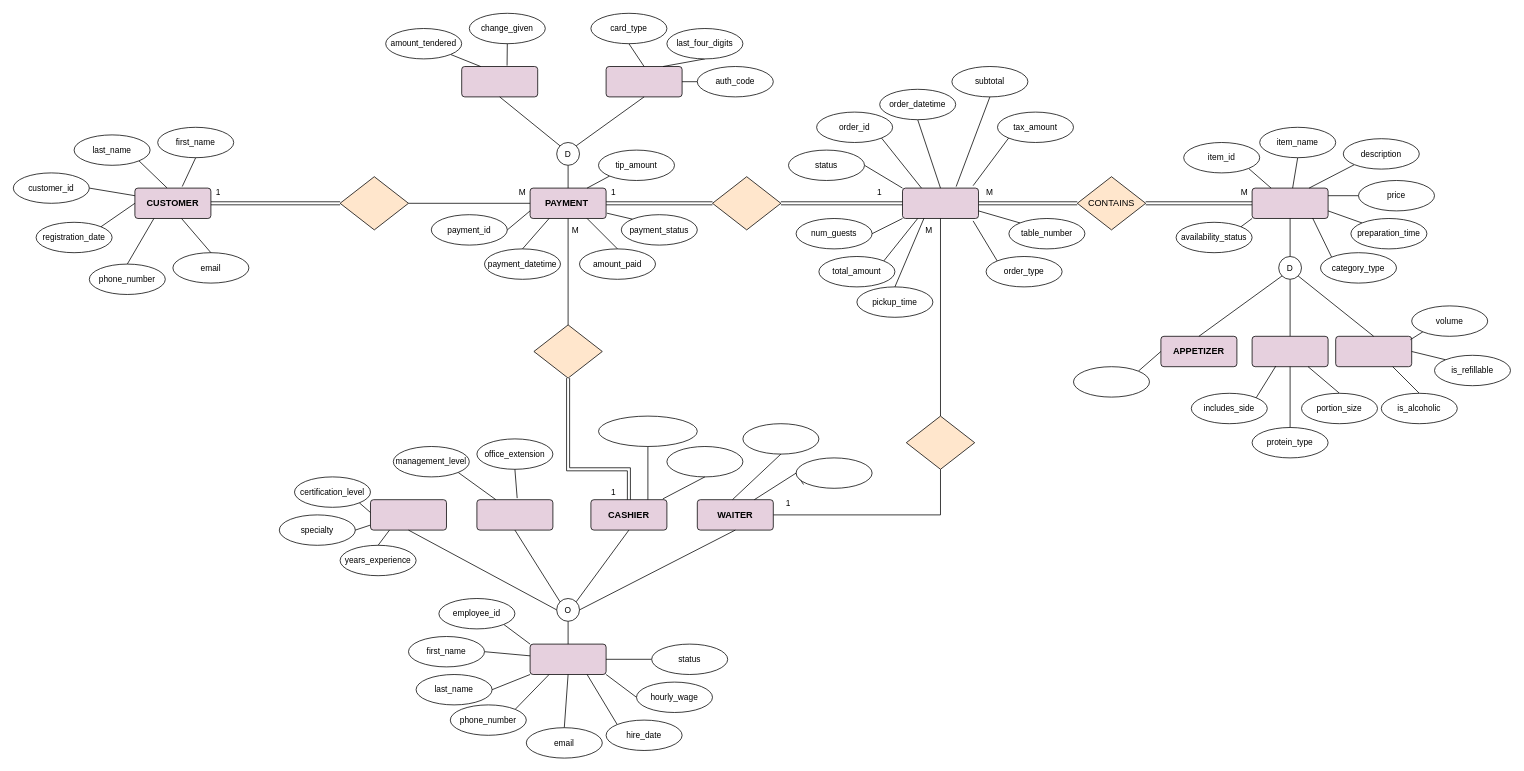
Some shapes in this 1524 by 771 pixel diagram are drawn without their labels. The centre of each missing label's shape, as x and y in pixels:
"assigned_section" belongs at point 780,438.
"BEVERAGES" belongs at point 1373,351.
"CARD" belongs at point 643,81.
"CASH" belongs at point 499,81.
"cash_handling_certified" belongs at point 647,430.
"CHEF" belongs at point 408,514.
"CREATES" belongs at point 746,203.
"EMPLOYEE" belongs at point 567,658.
"MAIN COURSE" belongs at point 1289,351.
"MAKES" belongs at point 373,203.
"MANAGER" belongs at point 514,514.
"MENU ITEMS" belongs at point 1289,202.
"ORDER" belongs at point 940,202.
"PROCESSES" belongs at point 567,351.
"register_number" belongs at point 704,461.
"SERVERS" belongs at point 940,442.
"spice_level" belongs at point 1111,381.
"total_tips" belongs at point 833,472.
